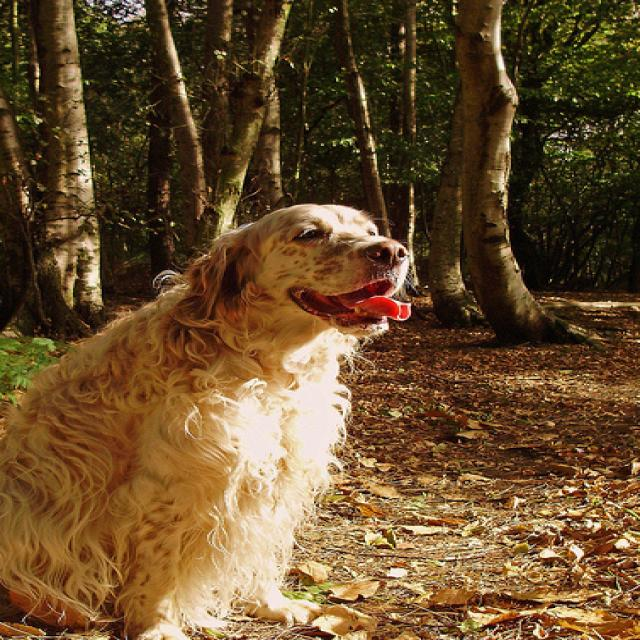dog-english_setter: (2, 195, 428, 637)
